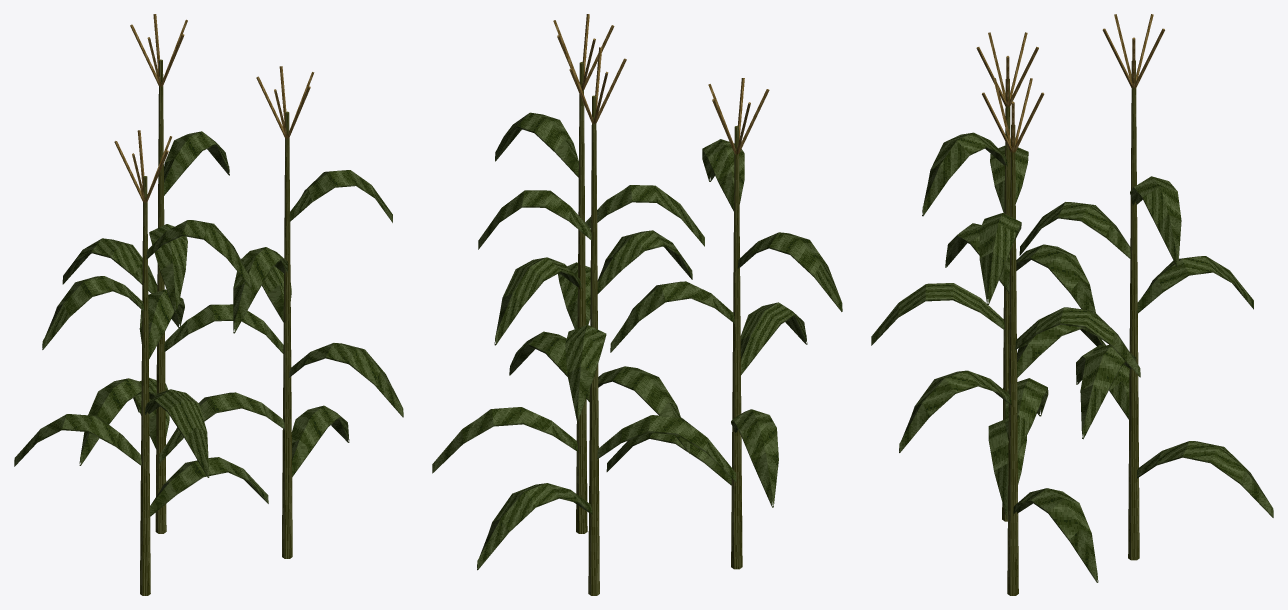
The model's file is level_corn.glb.
3 renders of one model, left to right at view 1: azimuth 30°, elevation 25°; view 2: azimuth 150°, elevation 25°; view 3: azimuth 270°, elevation 25°, orthographic. The views are drawn at different scales.
Visible parts, largest first — view 1: level_corn; view 2: level_corn; view 3: level_corn.
Boxes of the visible parts, x1,y1,x2,y2 form: level_corn: (14, 14, 403, 595); level_corn: (432, 14, 842, 595); level_corn: (871, 14, 1273, 595).
Size of the model in its own units: 1.61 by 2.24 by 1.53.
Materials: 3 (3 with a texture image).
